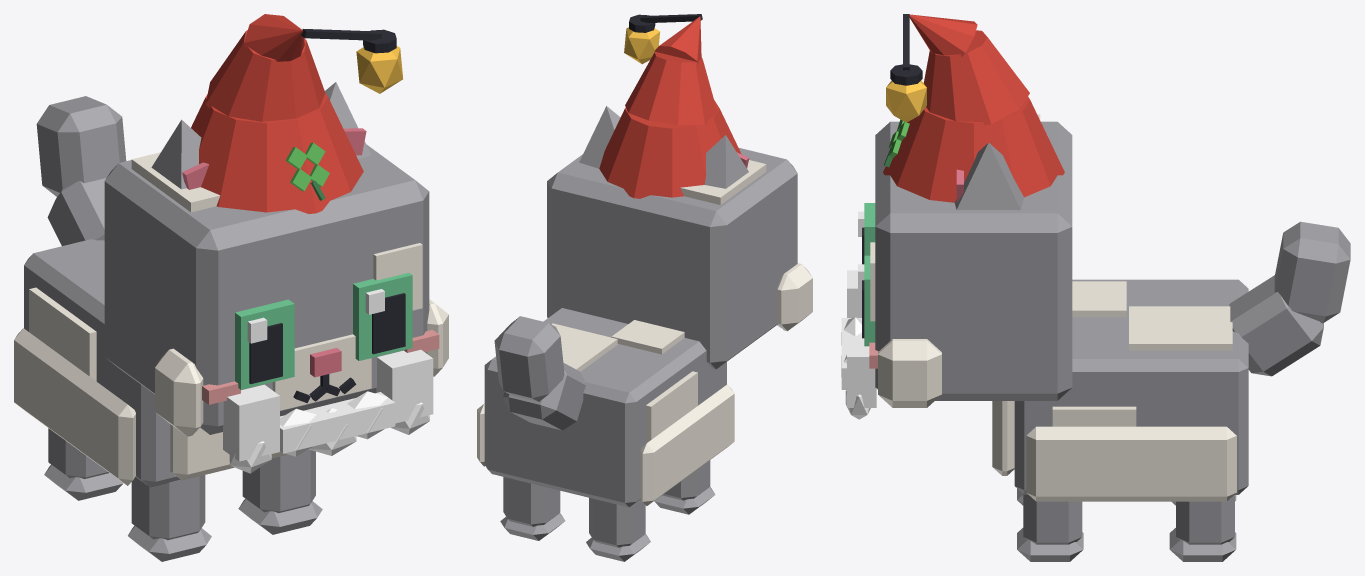
Rendered from CatCafe_Cat_Gnome.fbx.
3 renders of one model, left to right at view 1: azimuth 30°, elevation 25°; view 2: azimuth 150°, elevation 25°; view 3: azimuth 270°, elevation 25°, orthographic. The views are drawn at different scales.
Parts seen in each view (by area): view 1: CatCafe_Cat_Gnome_Head, CatCafe_Cat_Gnome_Body, CatCafe_Cat_Gnome_Prop, CatCafe_Cat_Gnome_Prop2, CatCafe_Cat_Gnome_Tail, CatCafe_Cat_Gnome_LegF2, CatCafe_Cat_Gnome_LegF1, CatCafe_Cat_Gnome_Eye2, CatCafe_Cat_Gnome_Eye1, CatCafe_Cat_Gnome_LegB2, CatCafe_Cat_Gnome_EarR, CatCafe_Cat_Gnome_Glow (+1 smaller); view 2: CatCafe_Cat_Gnome_Head, CatCafe_Cat_Gnome_Body, CatCafe_Cat_Gnome_Prop, CatCafe_Cat_Gnome_Tail, CatCafe_Cat_Gnome_LegB2, CatCafe_Cat_Gnome_LegB1, CatCafe_Cat_Gnome_LegF2, CatCafe_Cat_Gnome_EarR, CatCafe_Cat_Gnome_EarL, CatCafe_Cat_Gnome_Glow; view 3: CatCafe_Cat_Gnome_Body, CatCafe_Cat_Gnome_Head, CatCafe_Cat_Gnome_Prop, CatCafe_Cat_Gnome_Tail, CatCafe_Cat_Gnome_LegF1, CatCafe_Cat_Gnome_LegB1, CatCafe_Cat_Gnome_Prop2, CatCafe_Cat_Gnome_EarL, CatCafe_Cat_Gnome_Glow, CatCafe_Cat_Gnome_Eye1, CatCafe_Cat_Gnome_Eye2.
Part boxes in pixels (left/top/right/bottom): CatCafe_Cat_Gnome_Head: left=104, top=144, right=448, bottom=436; CatCafe_Cat_Gnome_Body: left=14, top=239, right=287, bottom=487; CatCafe_Cat_Gnome_Prop: left=191, top=14, right=396, bottom=213; CatCafe_Cat_Gnome_Prop2: left=223, top=349, right=433, bottom=473; CatCafe_Cat_Gnome_Tail: left=36, top=96, right=126, bottom=245; CatCafe_Cat_Gnome_LegF2: left=128, top=475, right=211, bottom=561; CatCafe_Cat_Gnome_LegF1: left=238, top=449, right=322, bottom=534; CatCafe_Cat_Gnome_Eye2: left=235, top=299, right=294, bottom=389; CatCafe_Cat_Gnome_Eye1: left=353, top=273, right=412, bottom=360; CatCafe_Cat_Gnome_LegB2: left=44, top=428, right=123, bottom=500; CatCafe_Cat_Gnome_EarR: left=151, top=119, right=209, bottom=189; CatCafe_Cat_Gnome_Glow: left=356, top=46, right=403, bottom=93; CatCafe_Cat_Gnome_Head: left=547, top=148, right=812, bottom=369; CatCafe_Cat_Gnome_Body: left=477, top=308, right=734, bottom=507; CatCafe_Cat_Gnome_Prop: left=599, top=14, right=741, bottom=198; CatCafe_Cat_Gnome_Tail: left=494, top=316, right=585, bottom=430; CatCafe_Cat_Gnome_LegB2: left=586, top=498, right=650, bottom=561; CatCafe_Cat_Gnome_LegB1: left=500, top=477, right=565, bottom=540; CatCafe_Cat_Gnome_LegF2: left=654, top=460, right=715, bottom=514; CatCafe_Cat_Gnome_EarR: left=704, top=135, right=749, bottom=188; CatCafe_Cat_Gnome_EarL: left=579, top=106, right=620, bottom=168; CatCafe_Cat_Gnome_Glow: left=624, top=27, right=659, bottom=64; CatCafe_Cat_Gnome_Body: left=992, top=279, right=1248, bottom=501; CatCafe_Cat_Gnome_Head: left=869, top=114, right=1072, bottom=407; CatCafe_Cat_Gnome_Prop: left=883, top=14, right=1064, bottom=202; CatCafe_Cat_Gnome_Tail: left=1229, top=221, right=1350, bottom=376; CatCafe_Cat_Gnome_LegF1: left=1017, top=494, right=1083, bottom=561; CatCafe_Cat_Gnome_LegB1: left=1169, top=495, right=1236, bottom=561; CatCafe_Cat_Gnome_Prop2: left=841, top=270, right=876, bottom=419; CatCafe_Cat_Gnome_EarL: left=954, top=142, right=1023, bottom=209; CatCafe_Cat_Gnome_Glow: left=886, top=80, right=926, bottom=122; CatCafe_Cat_Gnome_Eye1: left=858, top=255, right=875, bottom=346; CatCafe_Cat_Gnome_Eye2: left=858, top=203, right=875, bottom=264.
Size of the model in its own units: 1.18 by 2.31 by 2.07.
Materials: 1 (1 with a texture image).
